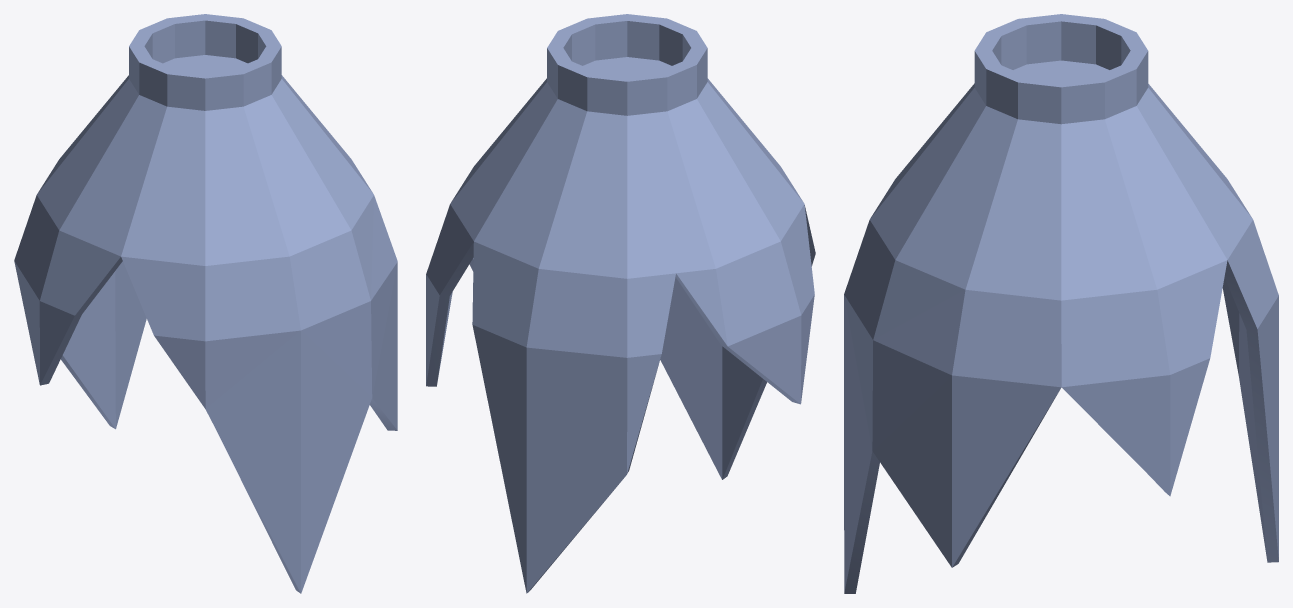
File: bottle3broken2.fbx
3 renders of one model, left to right at view 1: azimuth 30°, elevation 25°; view 2: azimuth 150°, elevation 25°; view 3: azimuth 270°, elevation 25°, orthographic. The views are drawn at different scales.
Parts seen in each view (by area): view 1: bottle3_broken2; view 2: bottle3_broken2; view 3: bottle3_broken2.
Part boxes in pixels (<box>): bottle3_broken2: <box>14,14,397,593</box>; bottle3_broken2: <box>426,14,815,593</box>; bottle3_broken2: <box>844,14,1278,593</box>.
Size of the model in its own units: 18.81 by 25.91 by 18.81.
